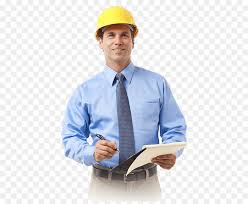Person_wearing_helmet: (91, 3, 137, 39)
